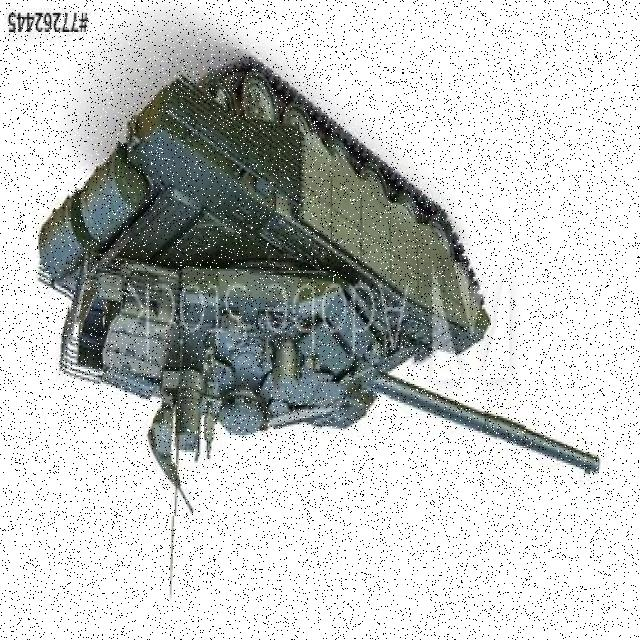MIL_MBT: (70, 54, 496, 516)
